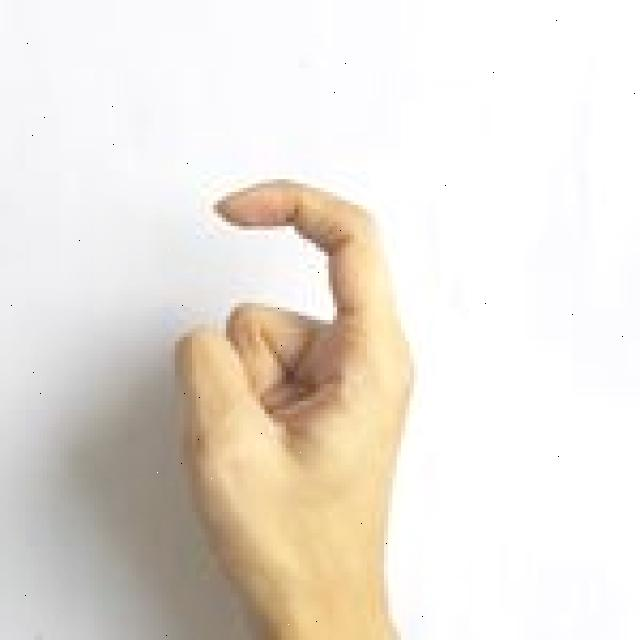X: (164, 172, 423, 640)
